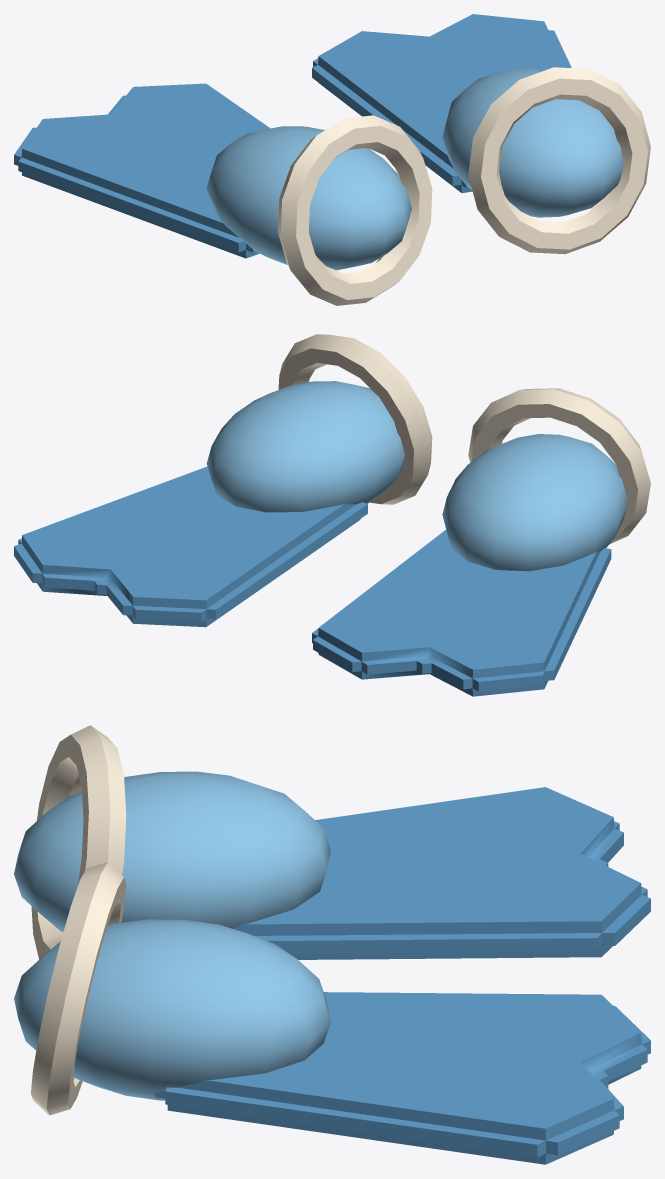
File: swim_fins.glb
The picture shows the model from 3 angles, top to bottom: view 1: azimuth 30°, elevation 25°; view 2: azimuth 150°, elevation 25°; view 3: azimuth 270°, elevation 25°; orthographic projection. The views are drawn at different scales.
Parts seen in each view (by area): view 1: SwimFins; view 2: SwimFins; view 3: SwimFins.
Part boxes in pixels (x1,y1,x2,y2): SwimFins: (14, 14, 650, 305); SwimFins: (14, 334, 650, 696); SwimFins: (14, 725, 650, 1164).
Bounding box in the file's own units: 0.5218 × 0.1615 × 0.4006.
